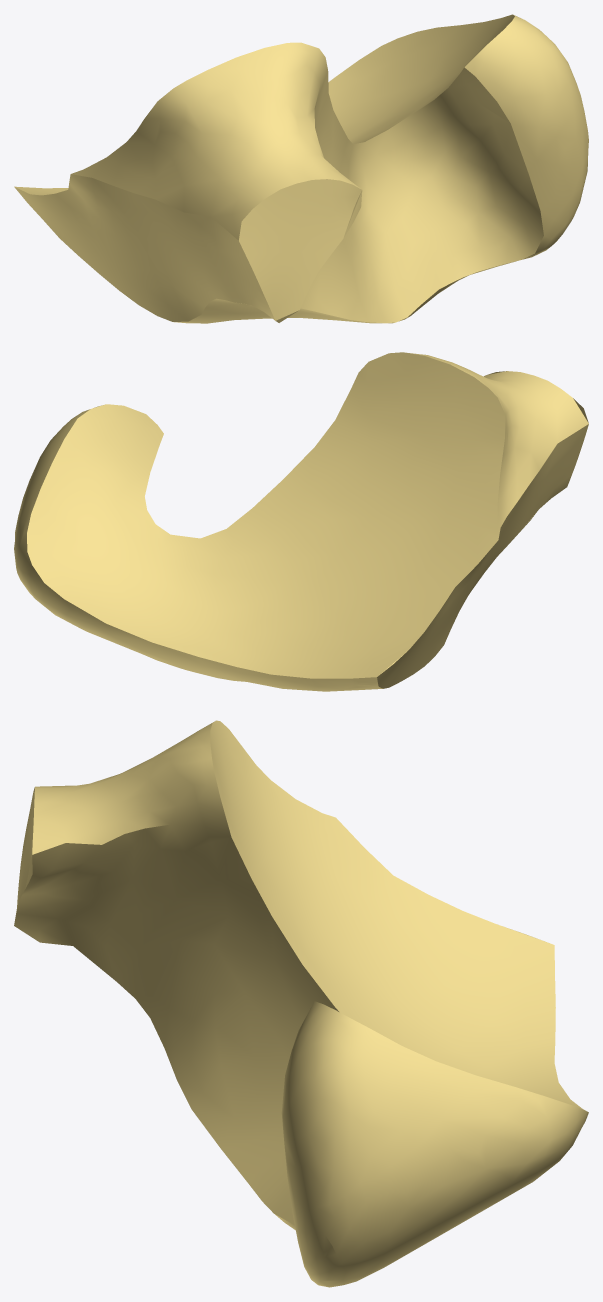
The model's file is fma73032_mm2798.glb.
3 views of the same model, one above another, from view 1: azimuth 30°, elevation 25°; view 2: azimuth 150°, elevation 25°; view 3: azimuth 270°, elevation 25° (orthographic). The views are drawn at different scales.
Visible parts, largest first — view 1: FMA73032_MM2798; view 2: FMA73032_MM2798; view 3: FMA73032_MM2798.
Boxes of the visible parts, left/top/right/bottom form: FMA73032_MM2798: left=14, top=14, right=588, bottom=323; FMA73032_MM2798: left=14, top=352, right=588, bottom=691; FMA73032_MM2798: left=14, top=720, right=588, bottom=1287.
Size of the model in its own units: 0.00815 by 0.00521 by 0.00692.
